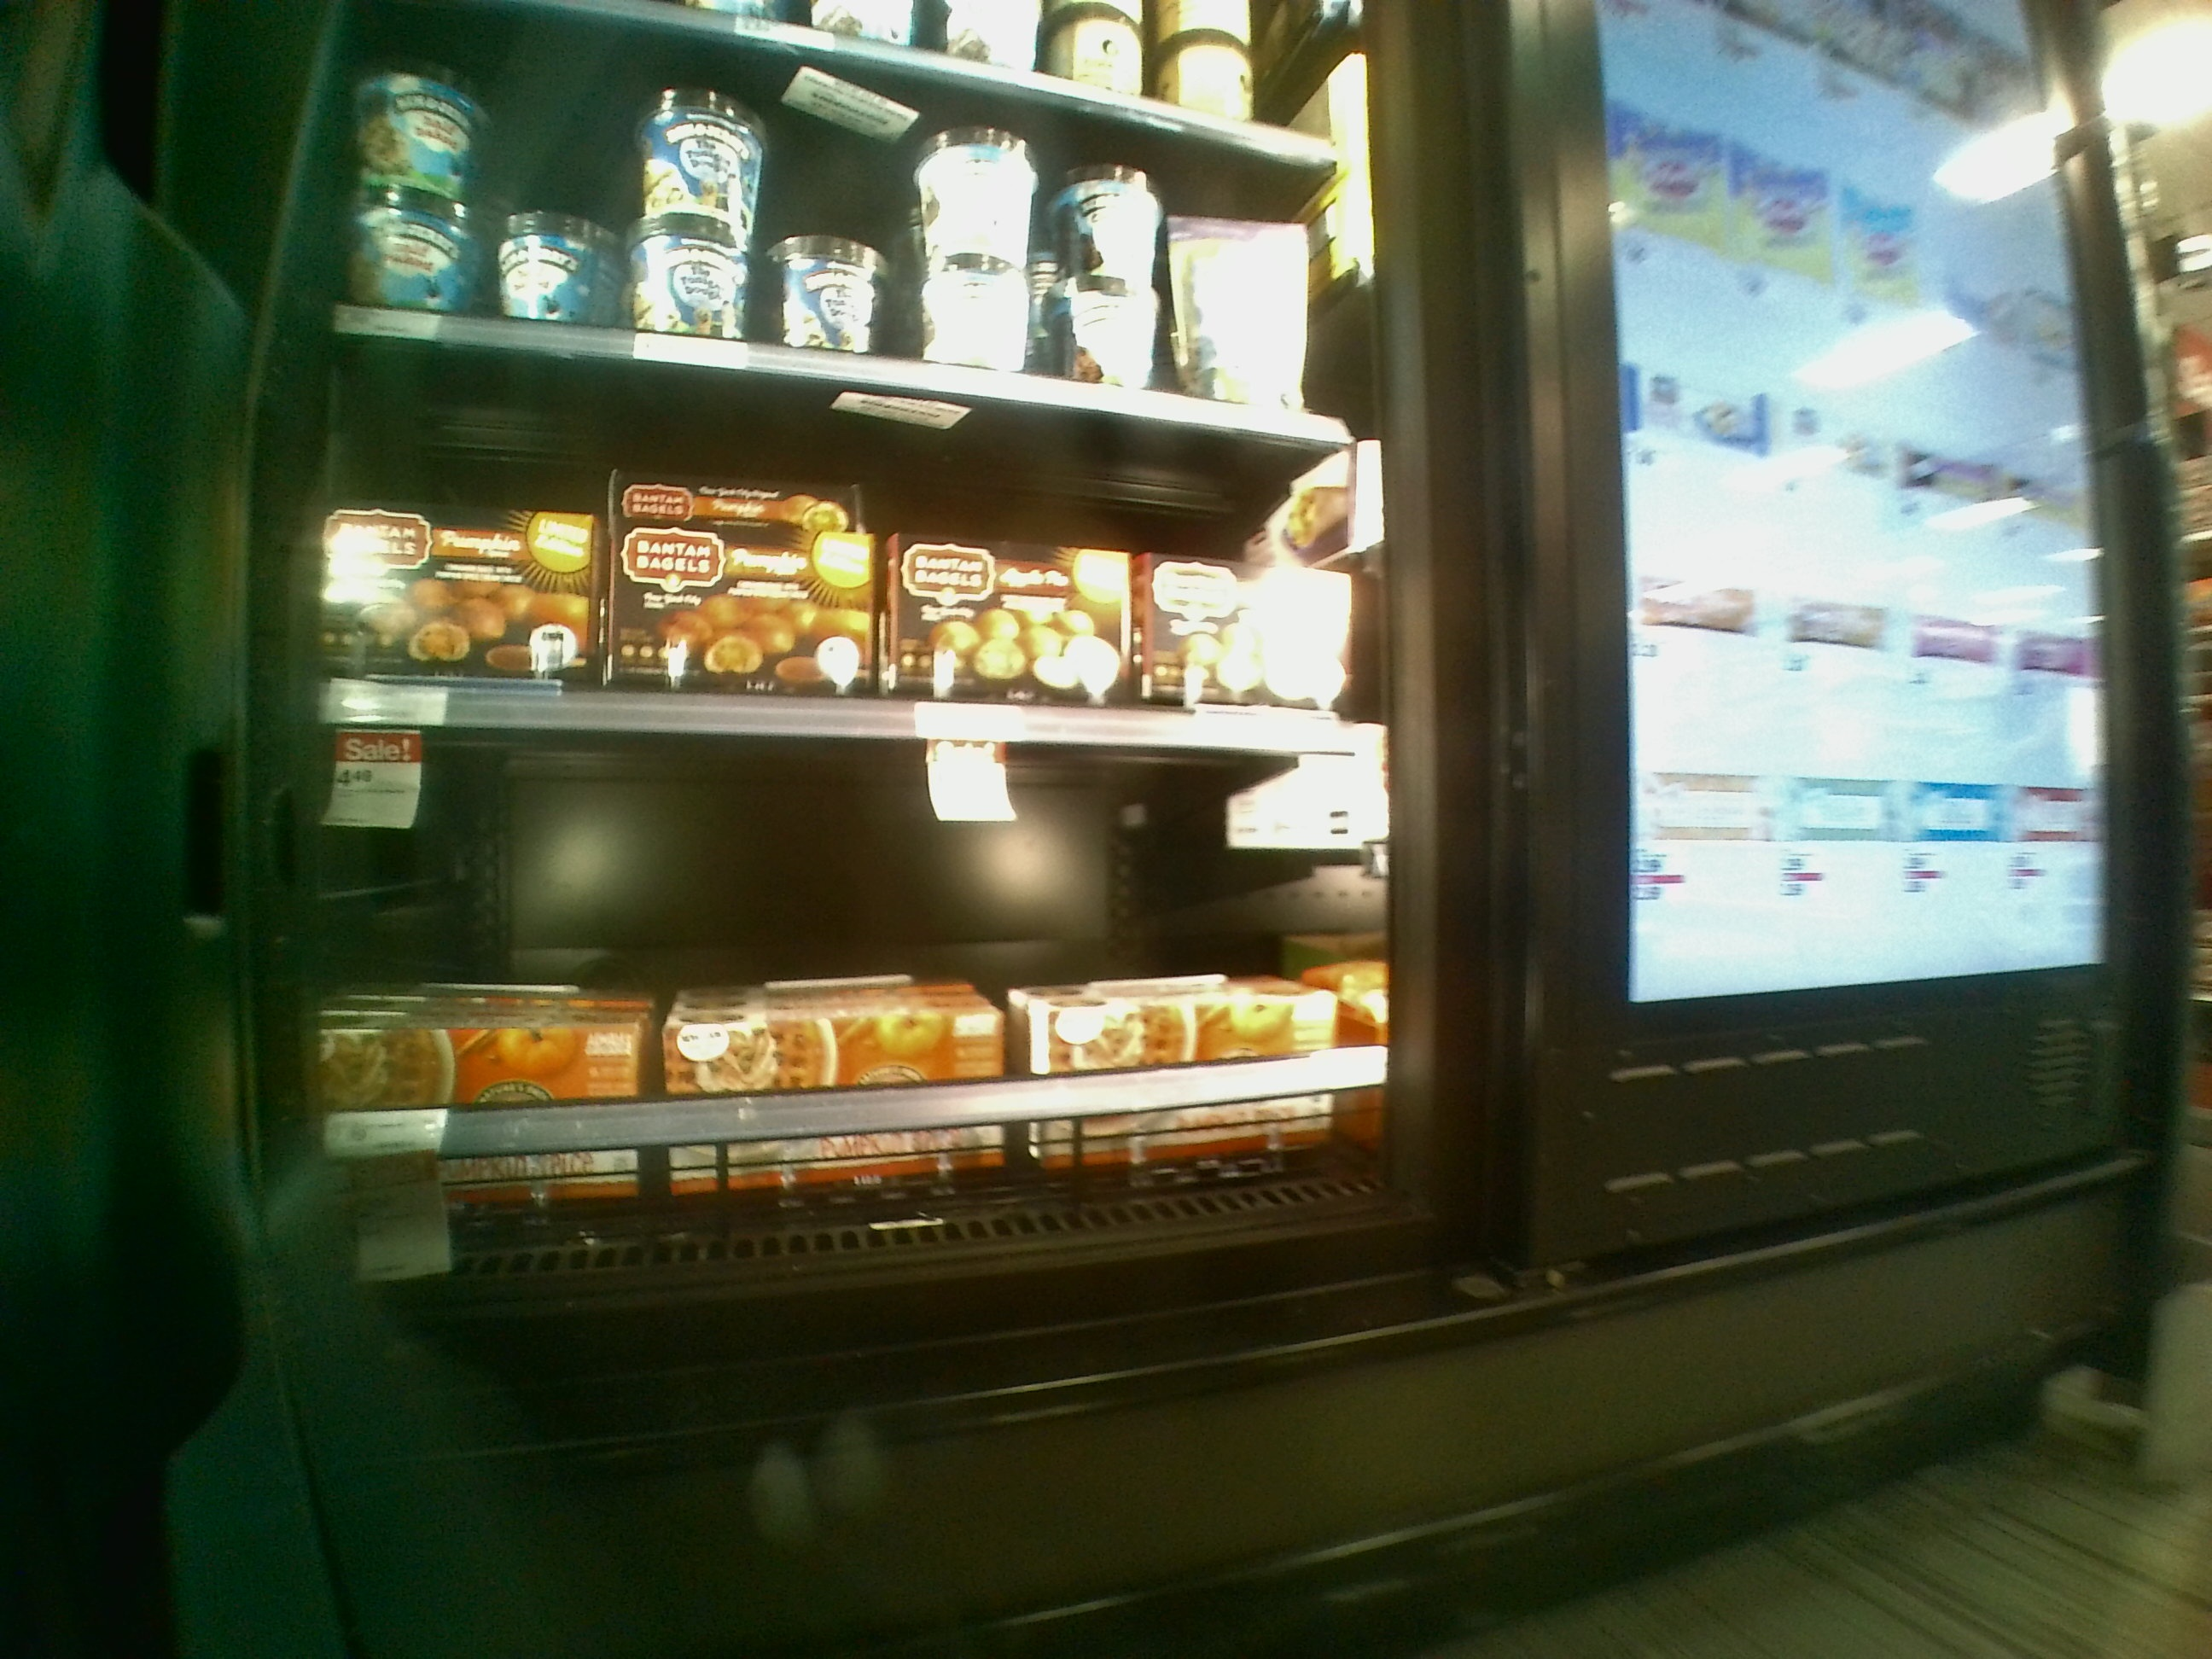shelf: (298, 716, 1404, 1255), (317, 338, 1385, 746)
